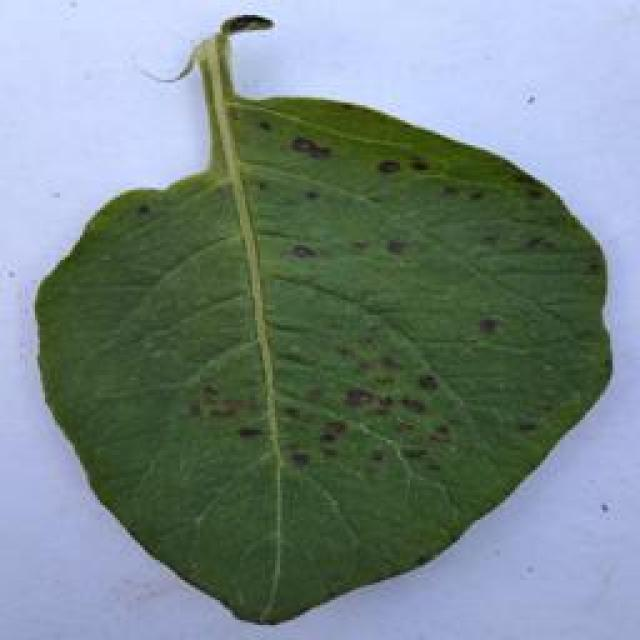Potato_Early_Blight: (0, 8, 630, 632)
